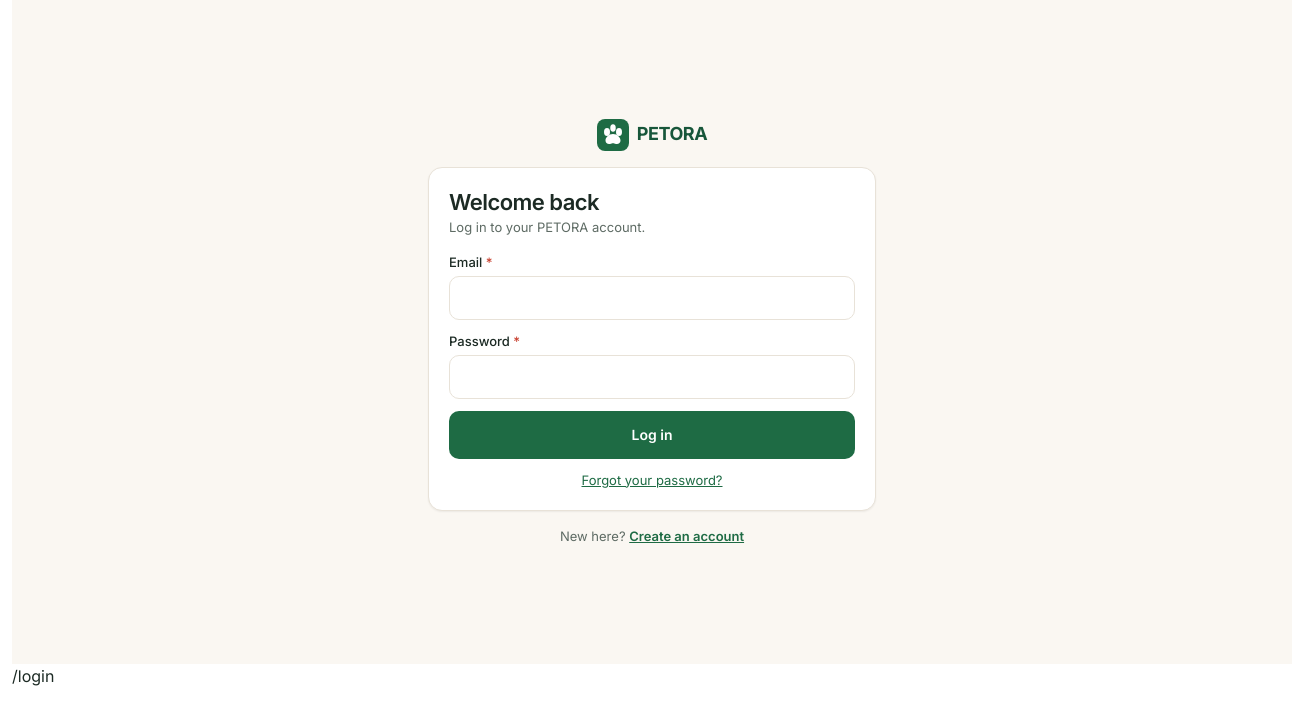
it: login form › shows the server error for bad credentials
Type "a@b.co" into the field labelled "Email *" at coordinates (652, 298), box x1=449 y1=276 x2=855 y2=320
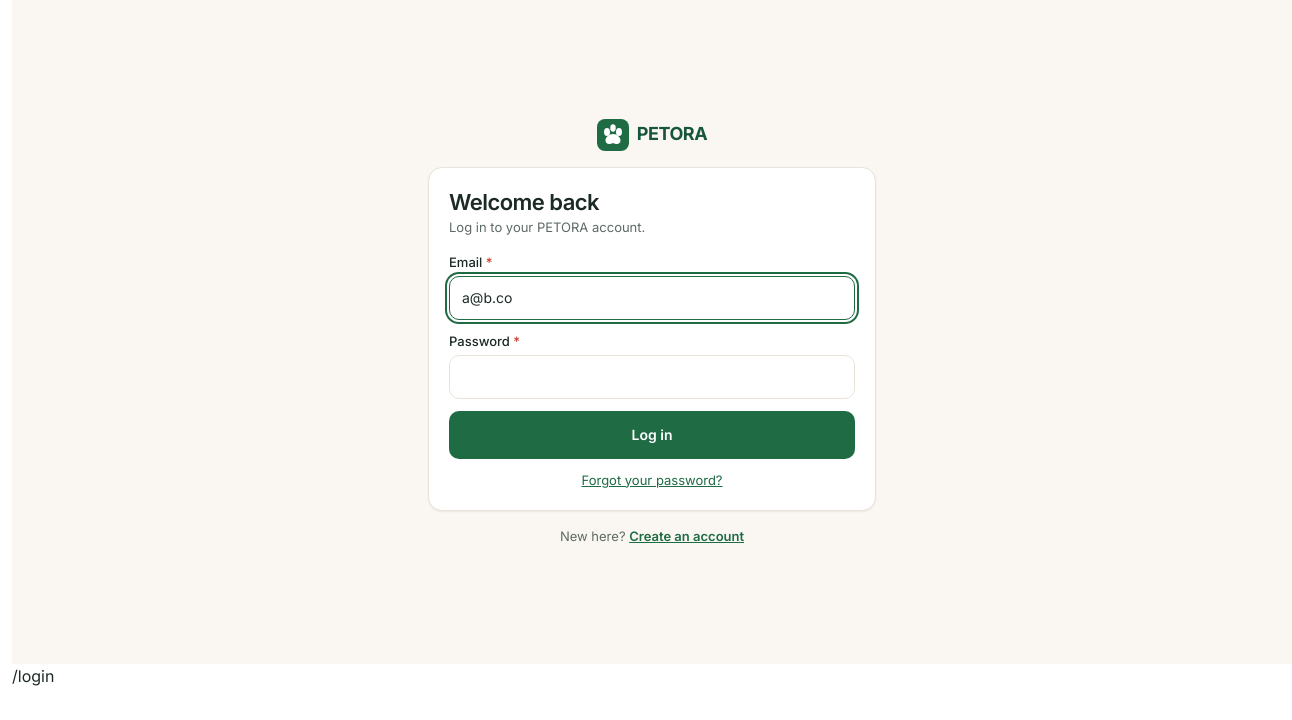
Type "wrong-password1" into the password field labelled "Password *" at coordinates (652, 377), box x1=449 y1=355 x2=855 y2=399
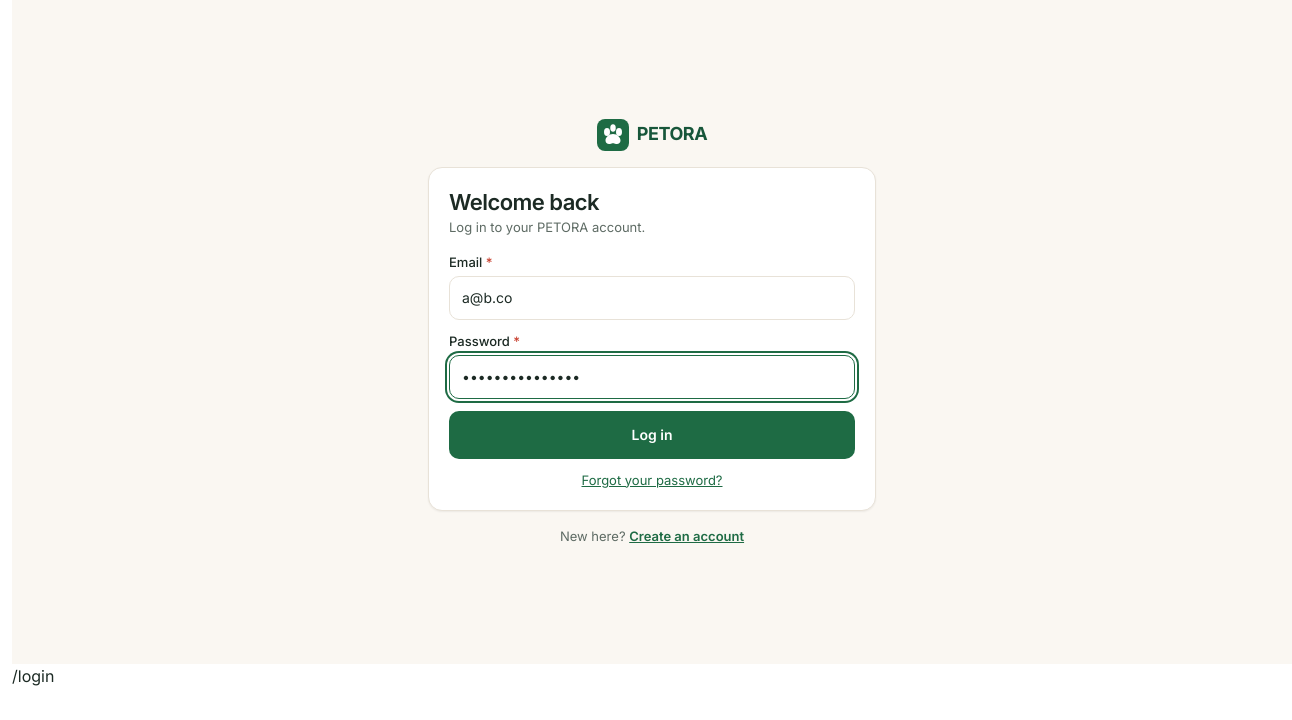
Click the button "Log in" at coordinates (652, 435), box x1=449 y1=411 x2=855 y2=459
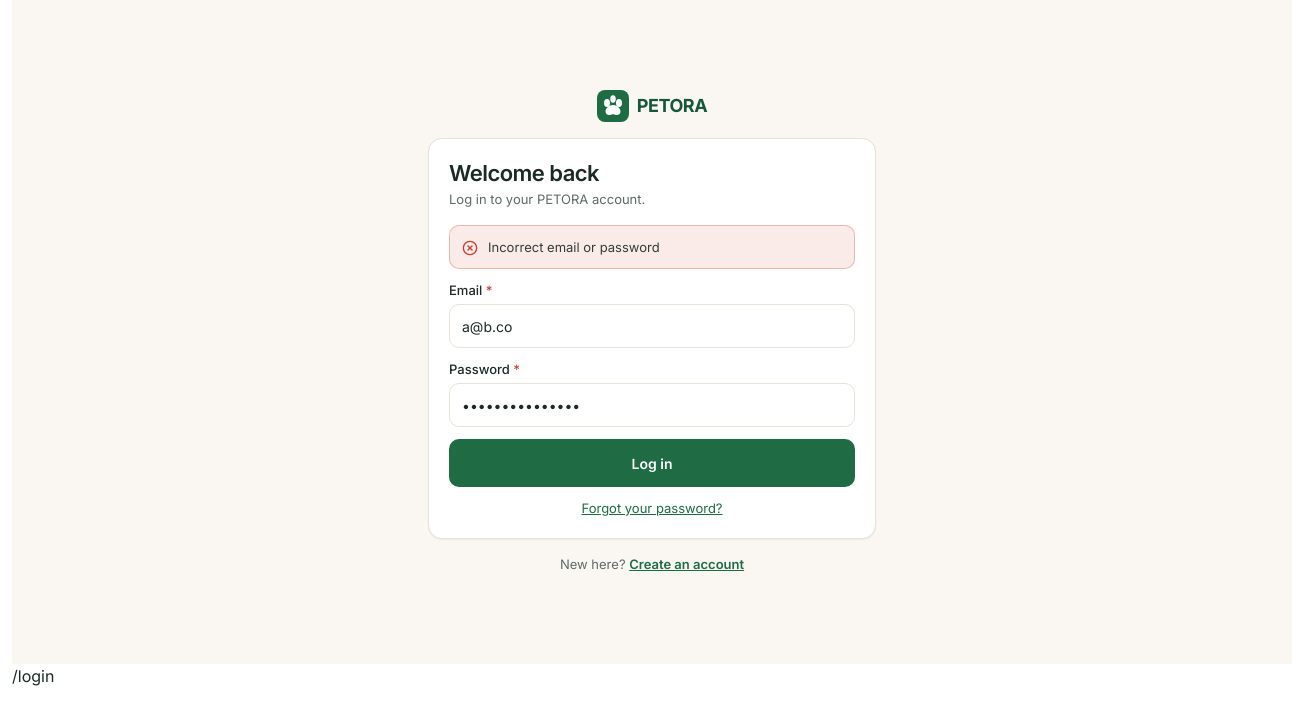
Expected: the text "Incorrect email or password" is shown, x1=488 y1=239 x2=660 y2=255
